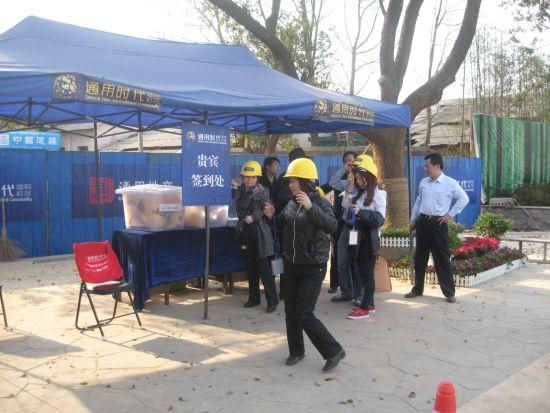helmet: (287, 159, 321, 181), (356, 156, 379, 178), (243, 161, 262, 178)
